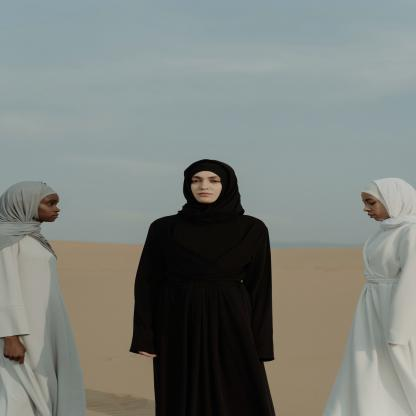Eye: (190, 178, 202, 184), (209, 178, 220, 184), (367, 200, 377, 206), (46, 202, 54, 206)
Mouth: (198, 191, 214, 197), (367, 213, 377, 219), (52, 213, 60, 219)
Nose: (198, 182, 210, 191), (52, 204, 61, 212), (362, 206, 372, 212)
